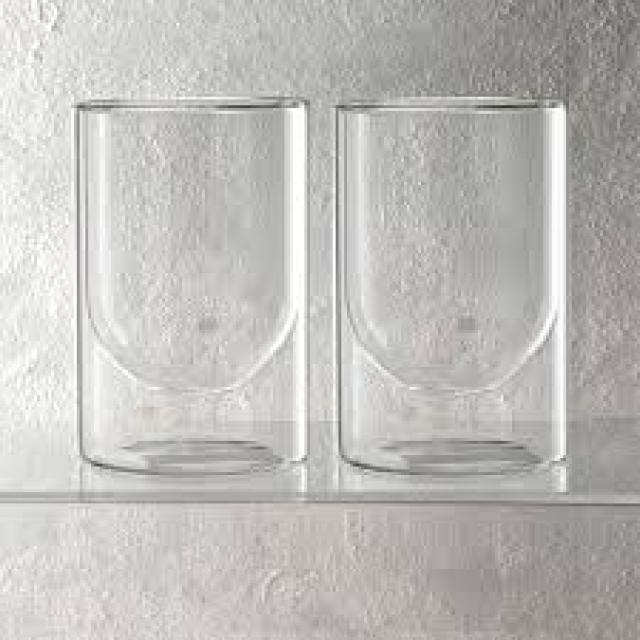Dry: (72, 92, 312, 474)
